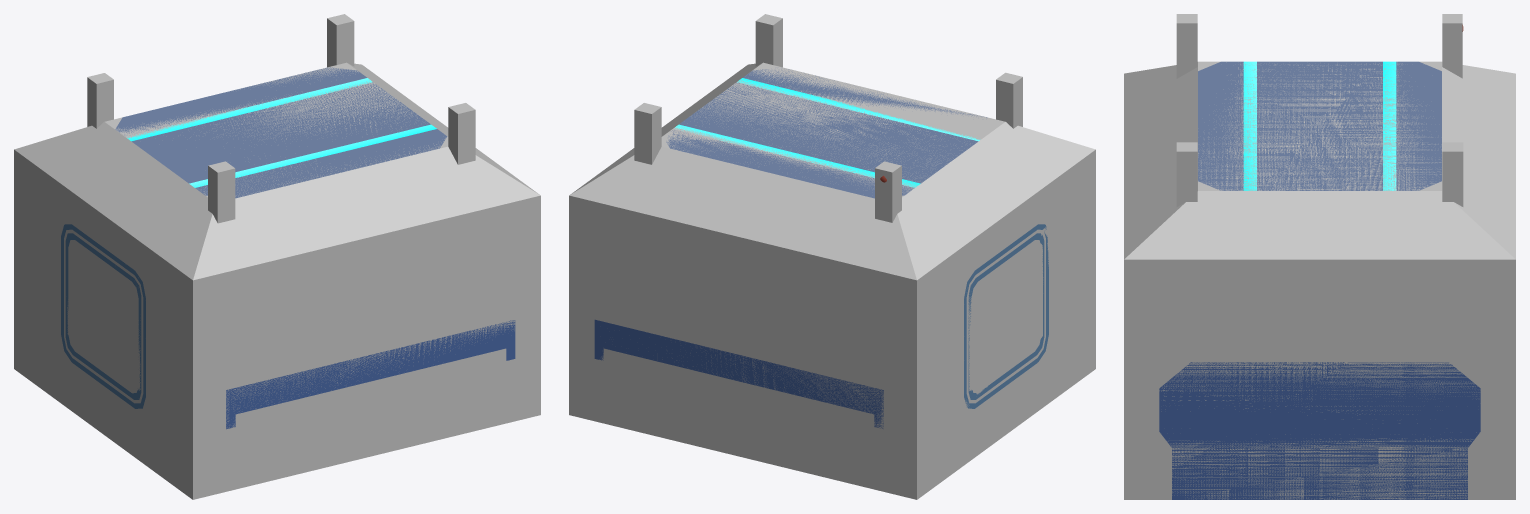
File: SM_Building_02_Top.fbx
3 views of the same model, side by side, from view 1: azimuth 30°, elevation 25°; view 2: azimuth 150°, elevation 25°; view 3: azimuth 270°, elevation 25° (orthographic). The views are drawn at different scales.
Parts seen in each view (by area): view 1: SM_Building_02_Top_ConvexHulls, SM_Building_02_Top; view 2: SM_Building_02_Top_ConvexHulls, SM_Building_02_Top; view 3: SM_Building_02_Top_ConvexHulls, SM_Building_02_Top.
Part boxes in pixels (x1,y1,x2,y2): SM_Building_02_Top_ConvexHulls: [14, 14, 540, 499]; SM_Building_02_Top: [61, 67, 515, 429]; SM_Building_02_Top_ConvexHulls: [569, 14, 1095, 499]; SM_Building_02_Top: [594, 69, 1048, 428]; SM_Building_02_Top_ConvexHulls: [1124, 14, 1515, 499]; SM_Building_02_Top: [1159, 25, 1480, 499].
Size of the model in its own units: 540 by 480 by 441.
2 materials, 1 textured.
